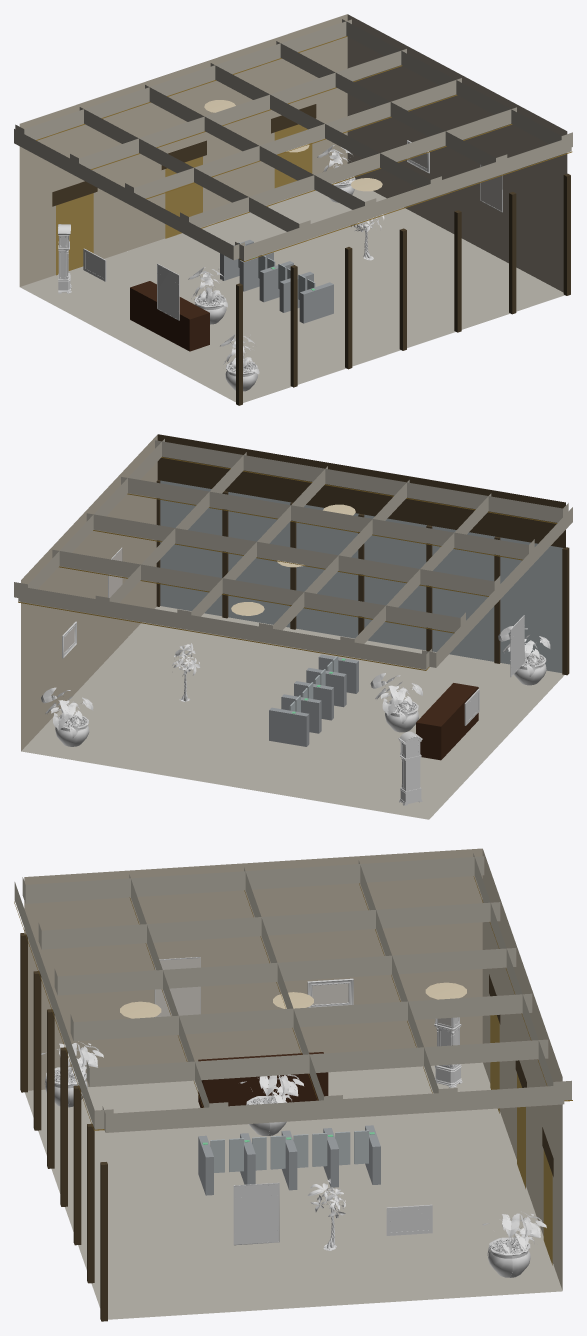
The model's file is hobart_int.glb.
3 renders of one model, top to bottom at view 1: azimuth 30°, elevation 25°; view 2: azimuth 150°, elevation 25°; view 3: azimuth 270°, elevation 25°, orthographic. The views are drawn at different scales.
Parts seen in each view (by area): view 1: I_x_marble_cream, I_x_checker, I_x_plaster, I_x_bronze, I_x_brass, I_d_metal, I_x_veneer, I_x_gold, I_p_potted_plant_02__1, I_p_potted_plant_02__0, I_p_hanging_picture_frame_01__2, I_p_vintage_grandfather_clock_01__0 (+4 smaller); view 2: I_x_checker, I_x_plaster, I_glassI, I_x_marble_cream, I_x_bronze, I_d_metal, I_x_veneer, I_x_gold, I_p_potted_plant_02__1, I_p_potted_plant_02__0, I_p_vintage_grandfather_clock_01__0, I_lampI (+3 smaller); view 3: I_x_checker, I_x_plaster, I_x_marble_cream, I_x_bronze, I_glassI, I_d_metal, I_p_hanging_picture_frame_01__2, I_x_veneer, I_p_potted_plant_02__1, I_p_potted_plant_02__0, I_crystal, I_x_brass (+5 smaller).
Part boxes in pixels (x1,y1,x2,y2): I_x_marble_cream: (19, 14, 567, 292); I_x_checker: (20, 189, 564, 402); I_x_plaster: (14, 19, 572, 260); I_x_bronze: (52, 104, 570, 405); I_x_brass: (56, 124, 312, 275); I_d_metal: (220, 240, 333, 323); I_x_veneer: (130, 281, 209, 351); I_x_gold: (36, 36, 572, 261); I_p_potted_plant_02__1: (188, 145, 355, 374); I_p_potted_plant_02__0: (194, 176, 355, 391); I_p_hanging_picture_frame_01__2: (157, 164, 502, 320); I_p_vintage_grandfather_clock_01__0: (58, 224, 71, 293); I_x_checker: (21, 606, 564, 819); I_x_plaster: (14, 439, 572, 669); I_glassI: (160, 480, 562, 712); I_x_marble_cream: (21, 435, 157, 750); I_x_bronze: (156, 434, 569, 675); I_d_metal: (269, 654, 358, 746); I_x_veneer: (416, 683, 478, 760); I_x_gold: (18, 457, 557, 670); I_p_potted_plant_02__1: (41, 626, 550, 738); I_p_potted_plant_02__0: (55, 653, 546, 746); I_p_vintage_grandfather_clock_01__0: (398, 731, 422, 805); I_lampI: (231, 504, 355, 713); I_x_checker: (25, 1062, 562, 1319); I_x_plaster: (14, 853, 571, 1132); I_x_marble_cream: (24, 848, 562, 1290); I_x_bronze: (20, 933, 553, 1321); I_glassI: (210, 1130, 368, 1172); I_d_metal: (198, 1125, 380, 1195); I_p_hanging_picture_frame_01__2: (154, 957, 279, 1245); I_x_veneer: (198, 1052, 328, 1107); I_p_potted_plant_02__1: (41, 1041, 546, 1255); I_p_potted_plant_02__0: (45, 1067, 530, 1277); I_crystal: (155, 958, 451, 1025); I_x_brass: (490, 1015, 552, 1265).
Size of the model in its own units: 14.91 by 5.6 by 13.26.
